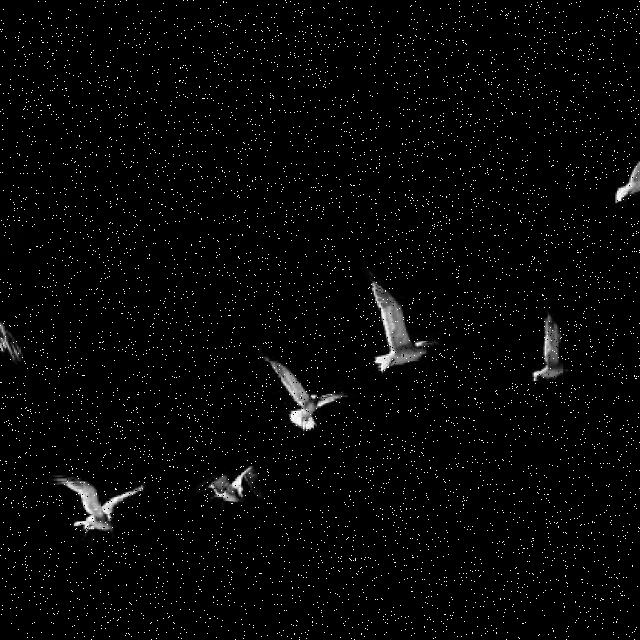bird: (362, 256, 438, 376), (256, 343, 349, 439), (50, 474, 144, 550), (533, 294, 570, 382), (194, 467, 264, 513)
